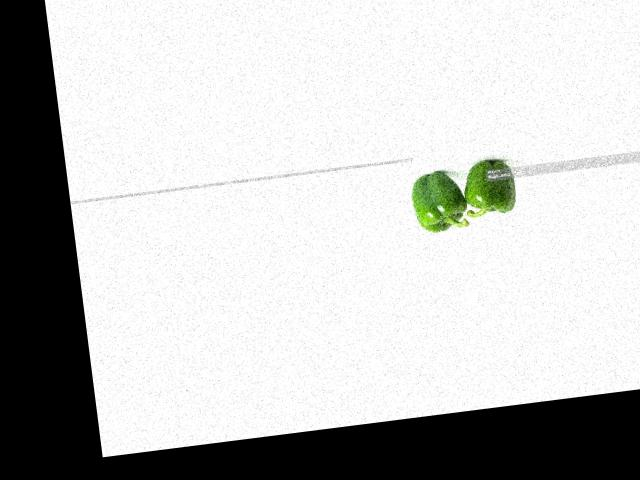bell_pepper: (408, 159, 469, 238)
